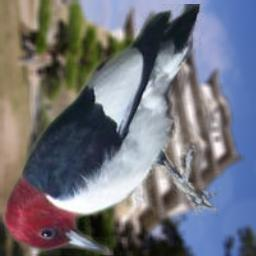Woodpecker: (1, 4, 222, 255)
